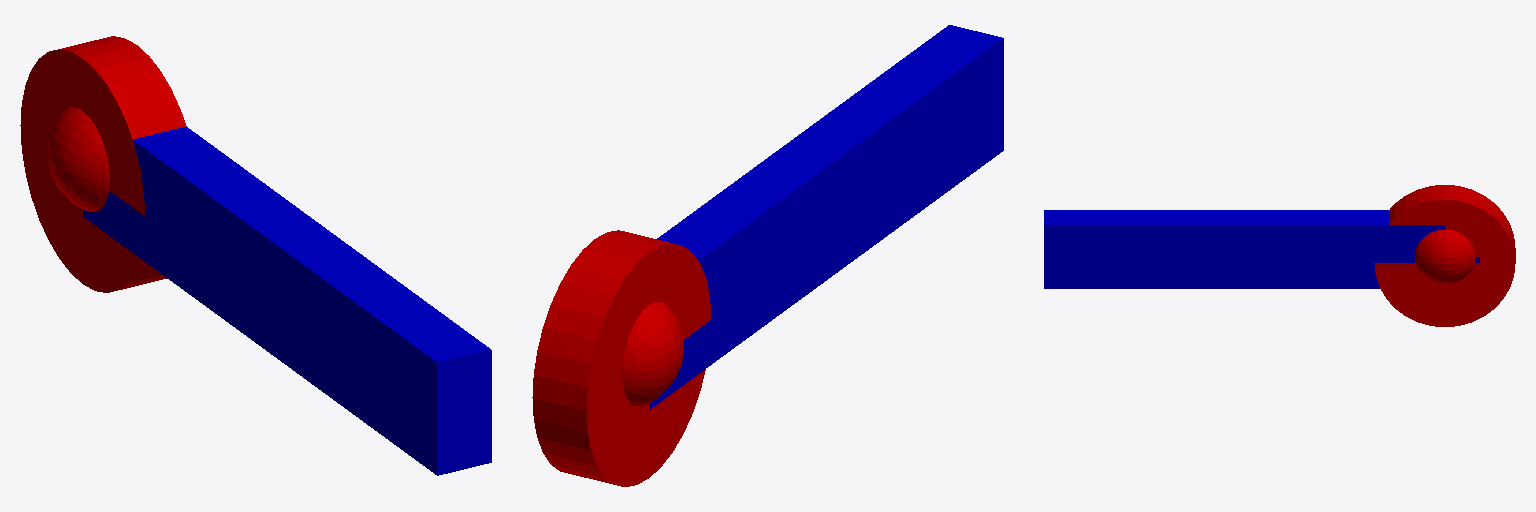
URDF robot description (TwoLinkStruct2126710905):
<?xml version="1.0"?>
<robot  name="TwoLinkStruct2126710905" >
 <material  name="blue" >
  <color  rgba="0 0 0.8 1.0" />
 </material>
 <material  name="red" >
  <color  rgba="0.8 0 0 1.0" />
 </material>
 <link  name="base_link" >
  <visual >
   <origin  rpy="0 1.5707 0"  xyz="0 0 0" />
   <material  name="red" />
   <geometry >
    <cylinder  length="0.05"  radius="0.1" />
   </geometry>
  </visual>
 </link>
 <joint  type="revolute"  name="joint1" >
  <parent  link="base_link" />
  <child  link="link1" />
  <origin  xyz="0 0 0"  rpy="0 0 0" />
  <axis  xyz="1 0 0" />
 </joint>
 <link  name="link1" >
  <inertial >
   <origin  rpy="0 0 0"  xyz="0 0 0.005" />
   <mass  value="0.059511995315551756" />
   <inertia  ixy="0.0"  iyy="2.4796664714813233e-05"  izz="1.2894265651702881e-05"  ixz="0.0"  ixx="1.2894265651702881e-05"  iyz="0.0" />
  </inertial>
  <visual >
   <origin  rpy="0 0 0"  xyz="0 0 0.005" />
   <material  name="blue" />
   <geometry >
    <box  size="0.05 0.1 0.01" />
   </geometry>
  </visual>
 </link>
 <joint  type="fixed"  name="joint-joint-1" >
  <parent  link="link1" />
  <child  link="joint-link-1" />
  <origin  xyz="0 0 0.01"  rpy="1.5707 0 0" />
  <axis  xyz="1 0 0" />
 </joint>
 <link  name="joint-link-1" >
  <inertial >
   <origin  rpy="0 0 0"  xyz="0 0 0" />
   <mass  value="3.6928215624153915" />
   <inertia  ixy="0"  iyy="0"  izz="0"  ixz="0"  ixx="0"  iyz="0" />
  </inertial>
  <visual >
   <origin  rpy="0 0 0"  xyz="0 0 0" />
   <material  name="red" />
   <geometry >
    <sphere  radius="0.05" />
   </geometry>
  </visual>
 </link>
 <joint  type="revolute"  name="joint2" >
  <parent  link="link1" />
  <child  link="link2" />
  <origin  xyz="0 0 0.01"  rpy="1.5707 0 0" />
  <axis  xyz="1 0 0" />
 </joint>
 <link  name="link2" >
  <inertial >
   <origin  rpy="0 0 0"  xyz="0 0 0.28400549571914163" />
   <mass  value="1.5339934538354412" />
   <inertia  ixy="0.0"  iyy="2.4796664714813233e-05"  izz="0.0016124600879363691"  ixz="0.0"  ixx="0.0016124600879363691"  iyz="0.0" />
  </inertial>
  <visual >
   <origin  rpy="0 0 0"  xyz="0 0 0.28400549571914163" />
   <material  name="blue" />
   <geometry >
    <box  size="0.05 0.1 0.5680109914382833" />
   </geometry>
  </visual>
 </link>
 <joint  type="fixed"  name="eef_joint" >
  <parent  link="link2" />
  <child  link="eef" />
  <origin  xyz="0 0 0.5680109914382833"  rpy="0 0 0" />
 </joint>
 <link  name="eef" >
  <inertial >
   <origin  rpy="0 0 0"  xyz="0 0 0" />
   <mass  value="1" />
   <inertia  ixy="0"  iyy="0"  izz="0"  ixz="0"  ixx="0"  iyz="0" />
  </inertial>
 </link>
 <transmission  name="motor1" >
  <type  xmltext="SimpleTransmission" >
   SimpleTransmission
  </type>
  <actuator  name="motor1" >
   <mechanicalreduction  xmltext="1" >
    1
   </mechanicalreduction>
  </actuator>
  <joint  name="joint1" />
 </transmission>
 <transmission  name="motor2" >
  <type  xmltext="SimpleTransmission" >
   SimpleTransmission
  </type>
  <actuator  name="motor2" >
   <mechanicalreduction  xmltext="1" >
    1
   </mechanicalreduction>
  </actuator>
  <joint  name="joint2" />
 </transmission>
</robot>

<!-- {'carti': array([-0.1 ,  0.14,  0.85]), 'cartd': array([-0.1 ,  0.32,  1.29]), 'tau_mu': 0.4193545517282784, 'b0': 0.24032682290707974, 'Km': 3.90621242637276, 'k_velocity': 49.717534593288136, 'tau_max_m': 4.935839903007677, 'omega_max_m': 6096.714088679075, 'gear_ratio': 11.068043035983722, 'Kp': 0.9564786619802135, 'Kd': 22.380059610702702, 'm_m': 3.6928215624153915, 'l1': 0.01, 'l2': 0.5680109914382833, 'k1': 1117.5435829011622, 'k2': 137507104.4197356, 'k3': 339833214.74404895}-->

--- Render facts (derived) ---
The picture shows the robot from 3 angles, left to right: view 1: azimuth 30°, elevation 25°; view 2: azimuth 150°, elevation 25°; view 3: azimuth 270°, elevation 25°; orthographic projection.
Robot: TwoLinkStruct2126710905 — 5 links, 4 joints (2 revolute, 2 fixed); root link base_link; default pose: all joints at 0.
Links seen in each view (by area): view 1: link2, base_link, joint-link-1; view 2: link2, base_link, joint-link-1; view 3: link2, base_link, joint-link-1.
Boxes of the visible links, x1,y1,x2,y2 form: link2: [83, 126, 491, 475]; base_link: [20, 36, 185, 292]; joint-link-1: [48, 107, 109, 211]; link2: [649, 25, 1003, 409]; base_link: [532, 230, 710, 486]; joint-link-1: [622, 301, 683, 406]; link2: [1044, 210, 1444, 288]; base_link: [1374, 185, 1515, 326]; joint-link-1: [1415, 230, 1474, 284].
Size in the robot's own frame: 0.1 by 0.668 by 0.2 metres.
Geometry: primitives only (box / cylinder / sphere), no mesh files.
